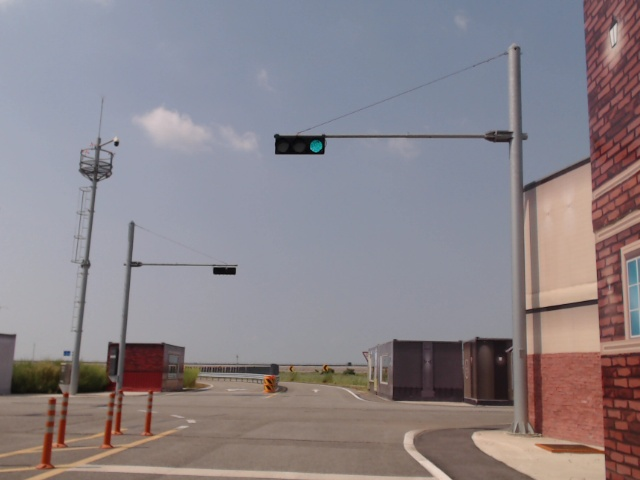green_3: (274, 135, 326, 155)
